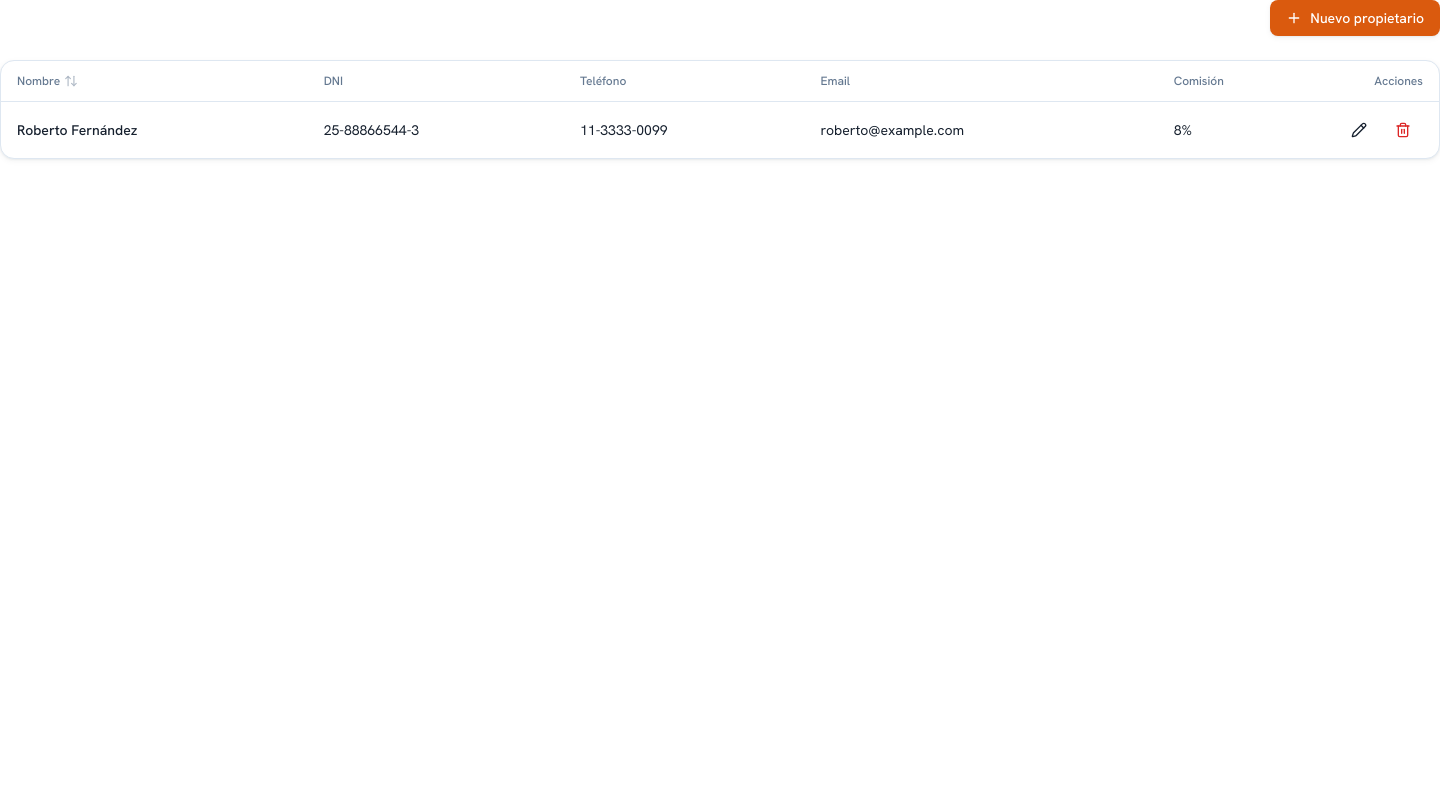
Test case: PropietariosList — Edit row action › clicking Editar opens form dialog prefilled with contact name
Click the button named "editar". click: (1359, 130)
box: top-left (1339, 114), bottom-right (1379, 146)
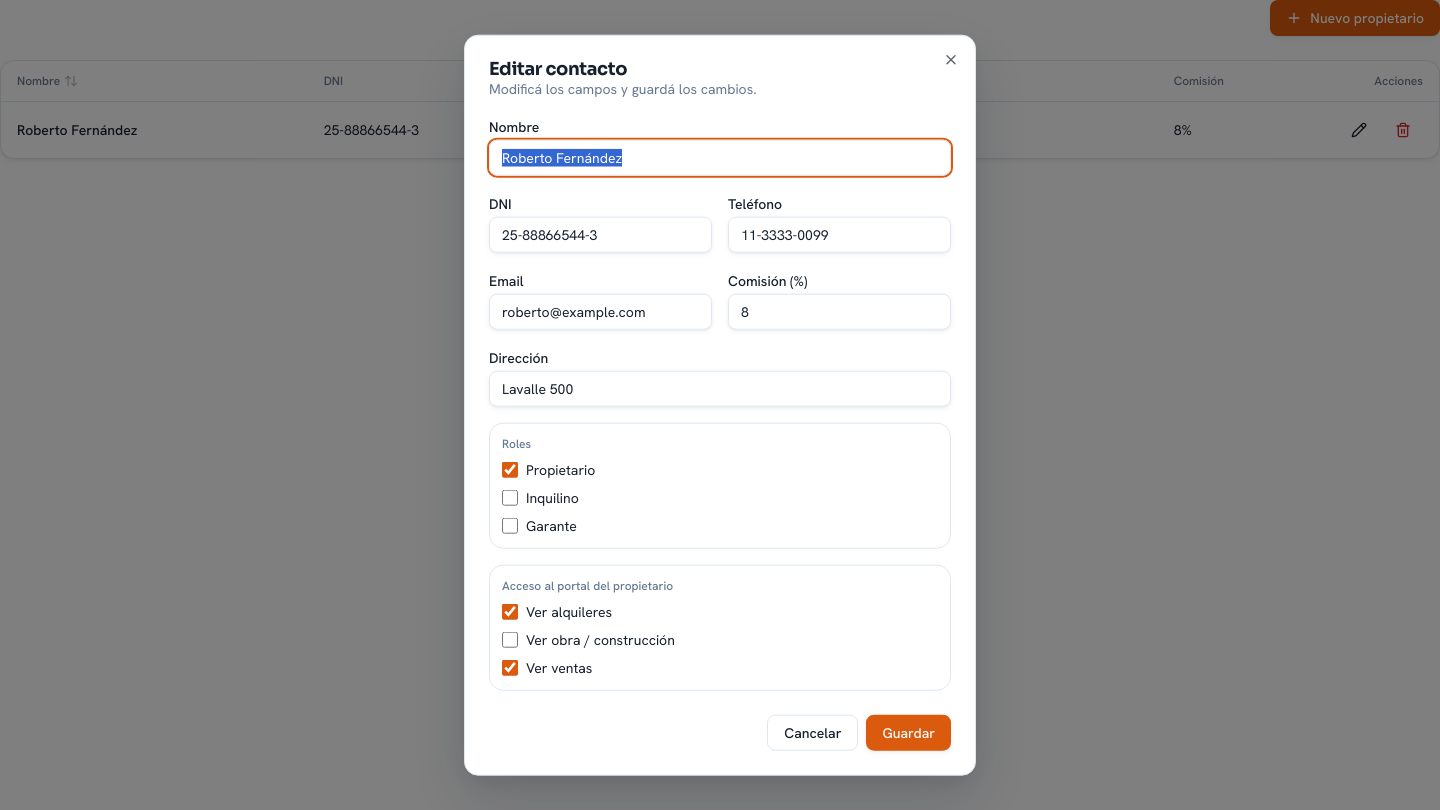
Expected: the field labelled "Nombre" holds "Roberto Fernández", top-left (489, 140), bottom-right (951, 176)
